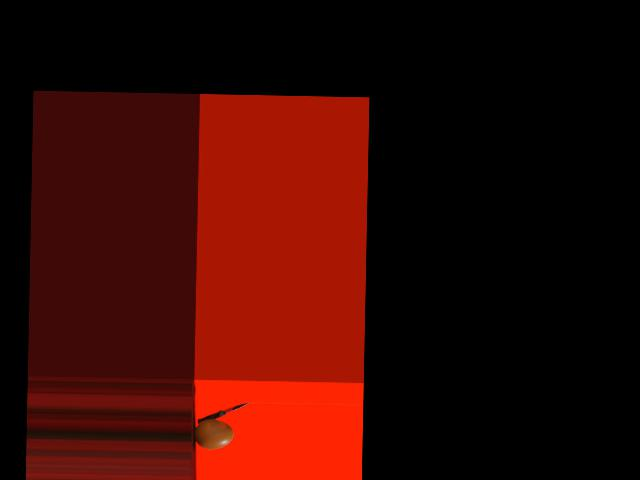egg: (194, 418, 233, 449)
